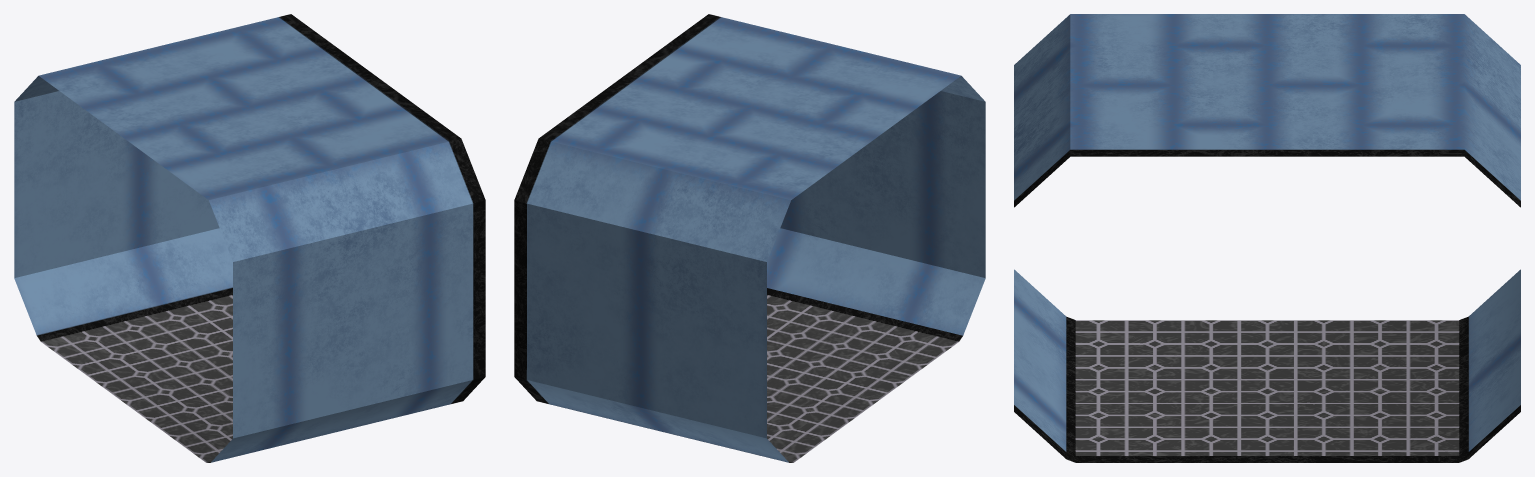
File: Hall - DoorBody - Texture.gltf
3 renders of one model, left to right at view 1: azimuth 30°, elevation 25°; view 2: azimuth 150°, elevation 25°; view 3: azimuth 270°, elevation 25°, orthographic. The views are drawn at different scales.
Visible parts, largest first — view 1: BlastDoor.003; view 2: BlastDoor.003; view 3: BlastDoor.003.
Boxes of the visible parts, left/top/right/bottom form: BlastDoor.003: left=14, top=14, right=485, bottom=462; BlastDoor.003: left=514, top=14, right=985, bottom=462; BlastDoor.003: left=1014, top=14, right=1520, bottom=462.
Bounding box in the file's own units: 2 × 2 × 3.
1 material, 1 textured.
